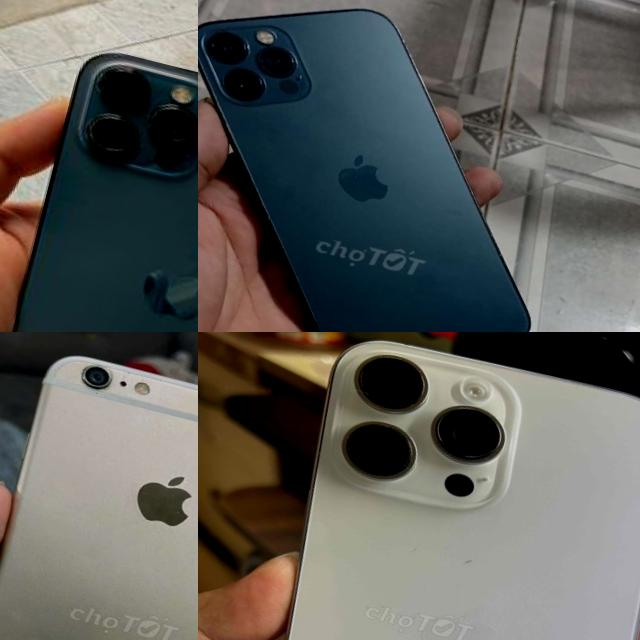scratch: (384, 528, 445, 568), (343, 377, 389, 409), (447, 545, 489, 579)
